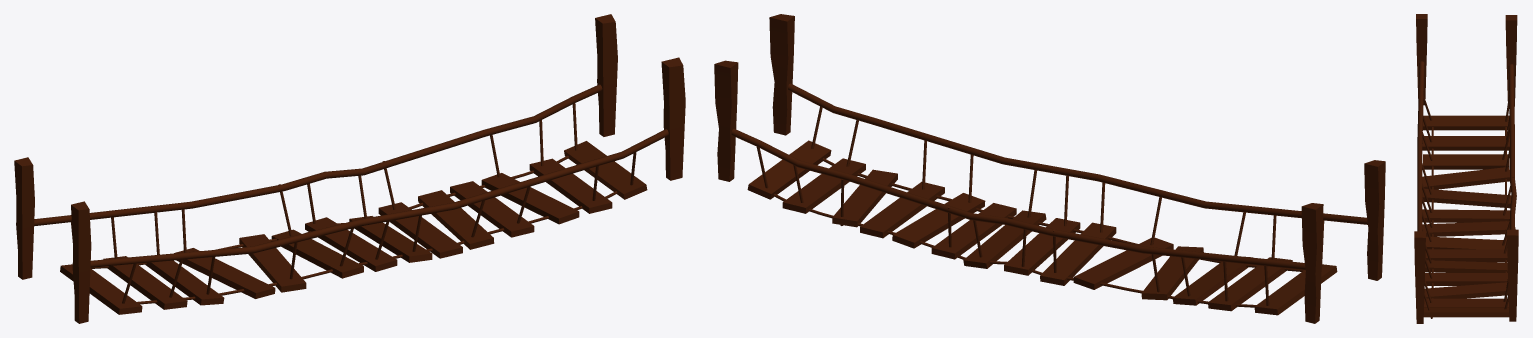
File: Pont.FBX
The picture shows the model from 3 angles, left to right: view 1: azimuth 30°, elevation 25°; view 2: azimuth 150°, elevation 25°; view 3: azimuth 270°, elevation 25°; orthographic projection. The views are drawn at different scales.
Visible parts, largest first — view 1: Box022; view 2: Box022; view 3: Box022.
Boxes of the visible parts, x1,y1,x2,y2 form: Box022: (14, 14, 685, 323); Box022: (714, 14, 1385, 323); Box022: (1414, 14, 1518, 323).
Size of the model in its own units: 82.3 by 18.79 by 16.23.
